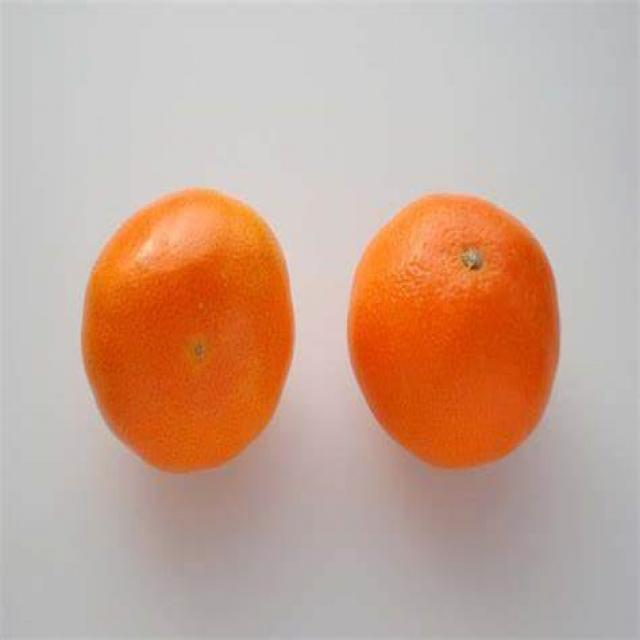Orange: (76, 187, 299, 475), (348, 191, 564, 469)
